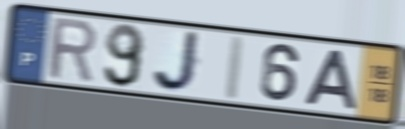6: (259, 42, 301, 104)
9: (102, 21, 147, 91)
A: (301, 47, 359, 112)
I: (221, 33, 249, 103)
J: (151, 29, 203, 94)
R: (47, 15, 99, 85)
